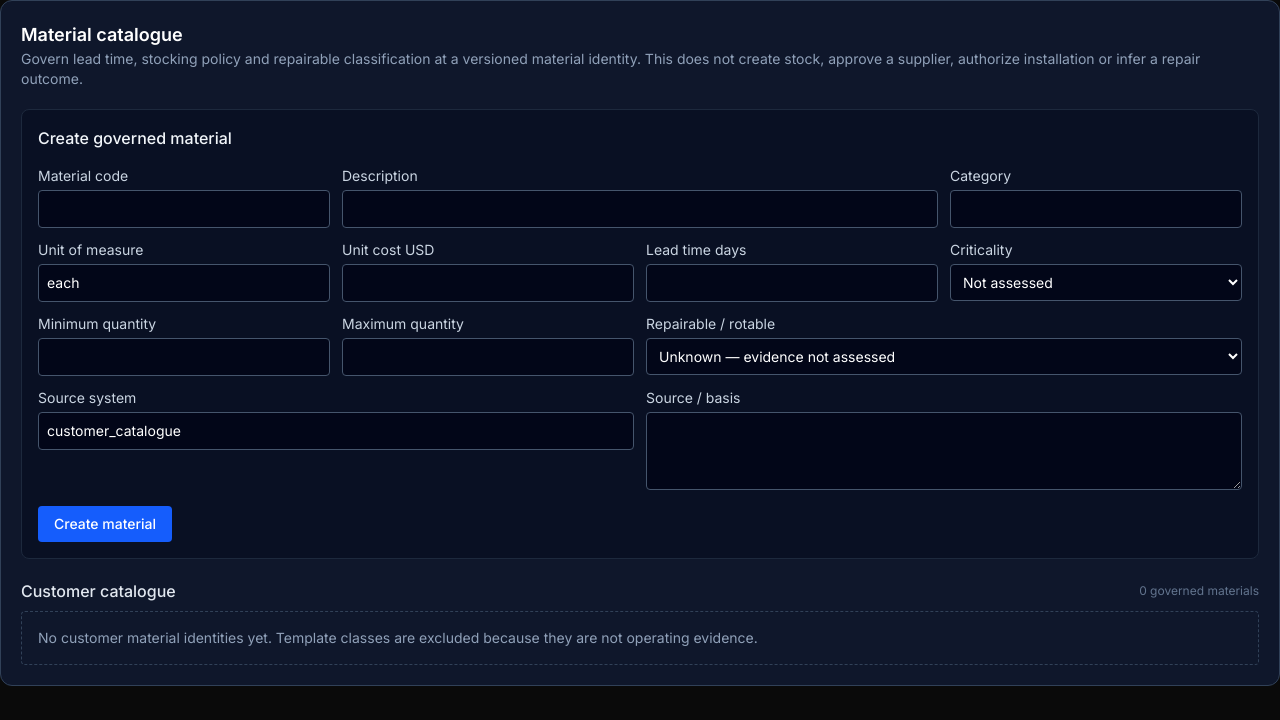
it: MaterialCatalogue › preserves input on refusal and never displays a success message
Check: the text "0 governed materials" is shown, box [1139,583,1259,599]
Step 1. Type "SEAL-1" into the field labelled "Material code" → (184, 209), box [38,190,330,228]
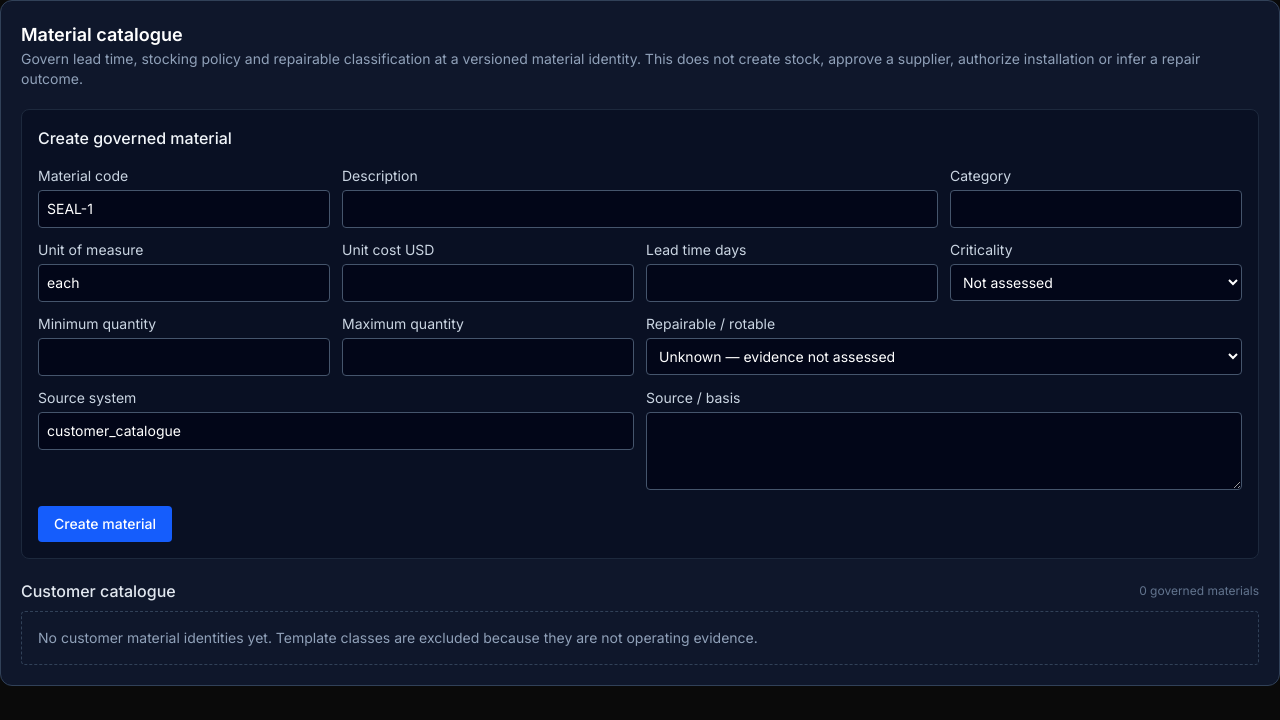
Step 2. Type "Seal" into the field labelled "Description" → (640, 209), box [342,190,938,228]
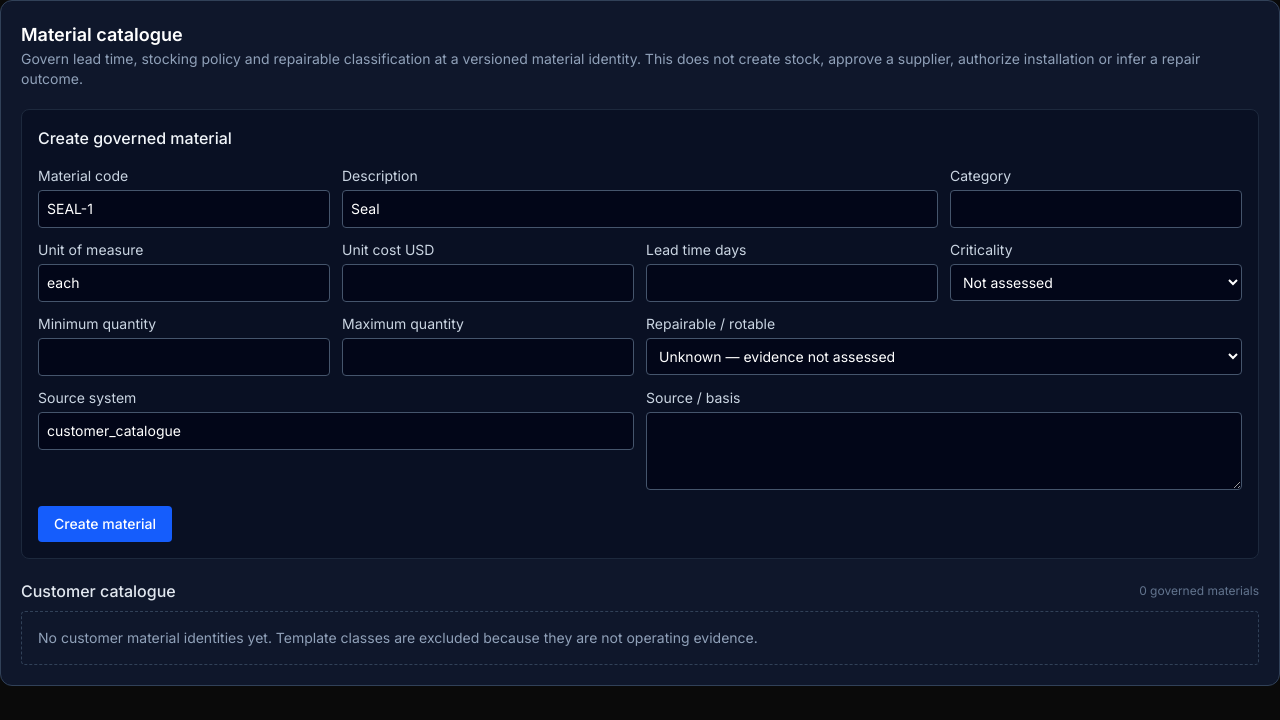
Step 3. Type "21" into the number field labelled "Lead time days" → (792, 283), box [646,264,938,302]
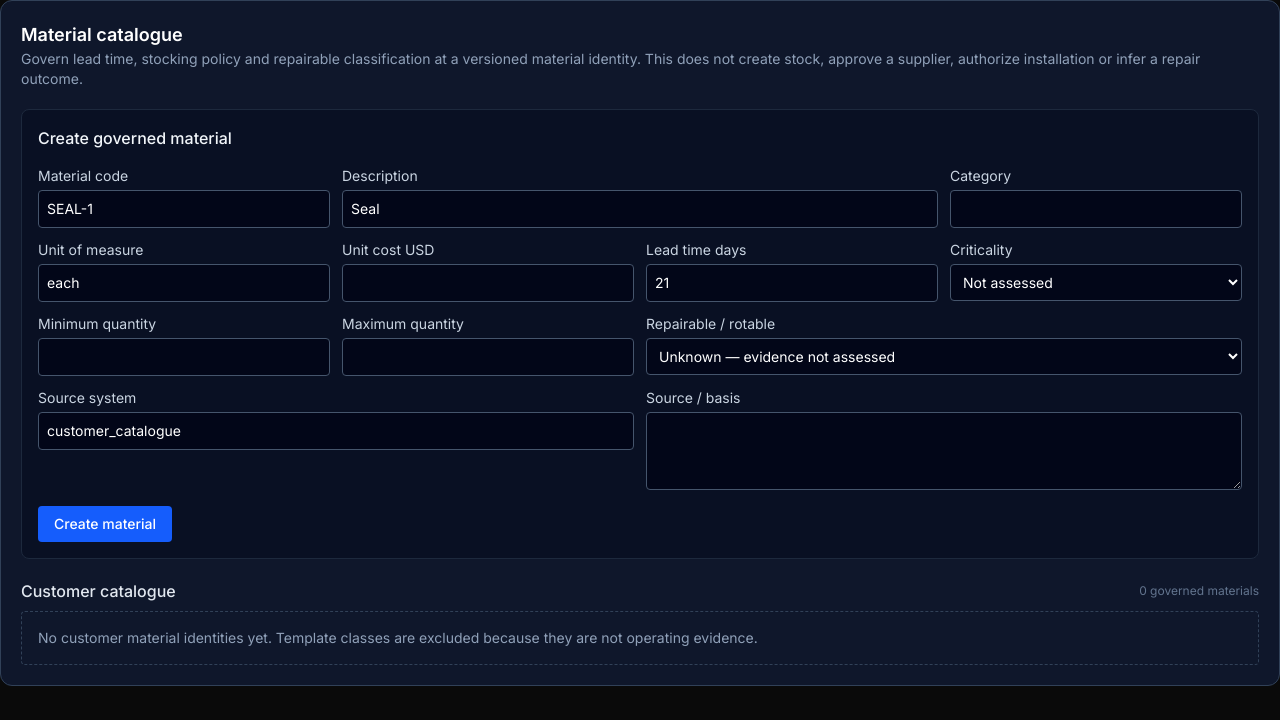
Step 4. Select "Consumable" in the dropdown labelled "Repairable / rotable" → (944, 356), box [646,338,1242,375]
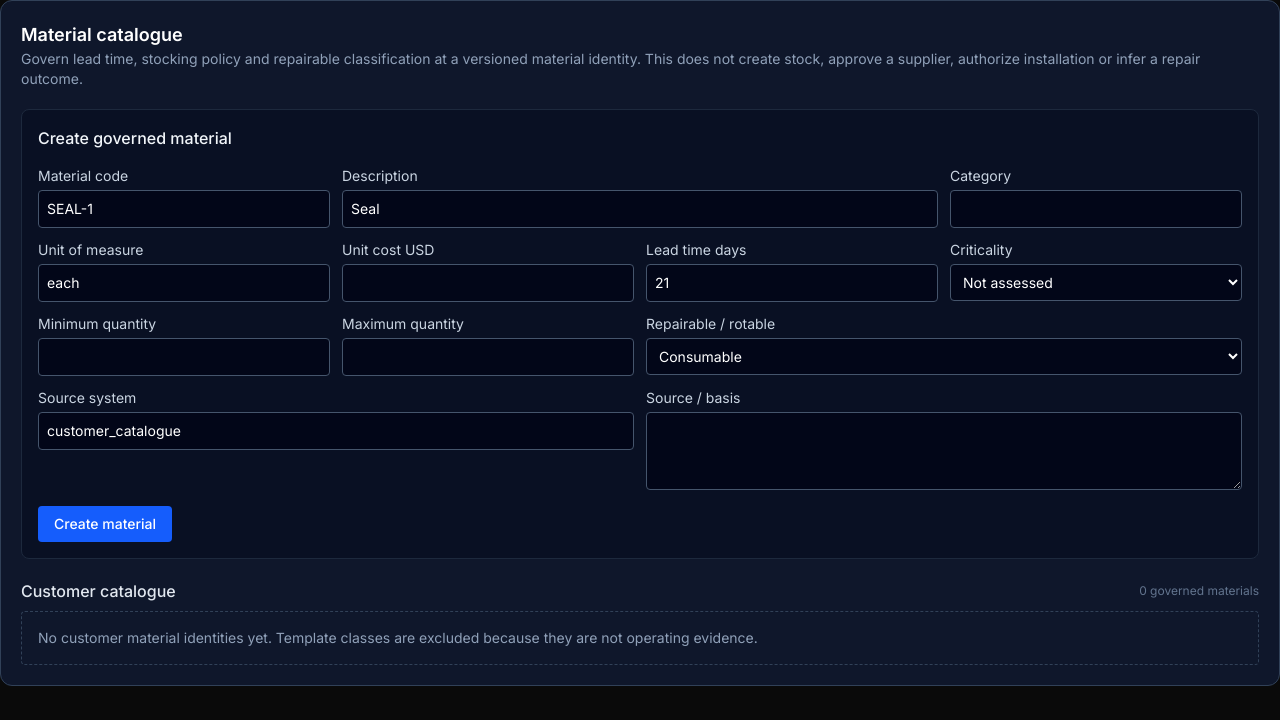
Step 5. Type "Approved catalogue page four source." into the text box labelled "Source / basis" → (944, 451), box [646,412,1242,490]
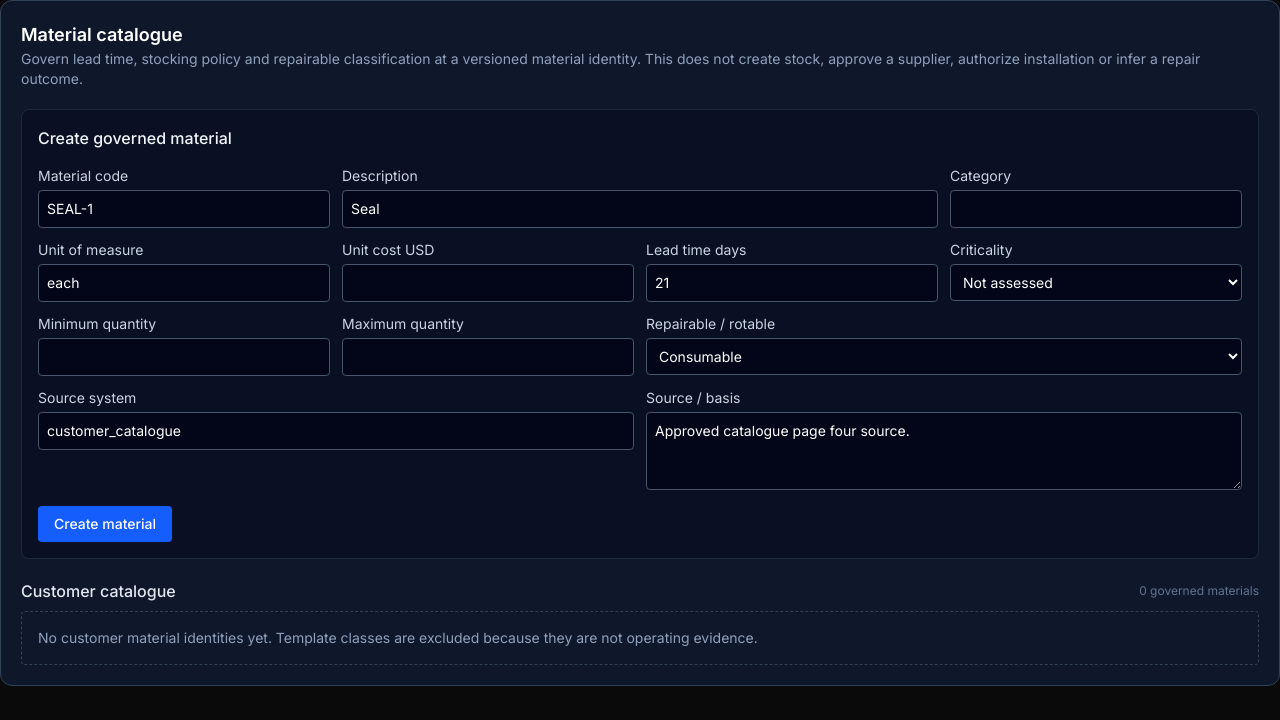
Step 6. Click the button "Create material" → (105, 524), box [38,506,172,542]
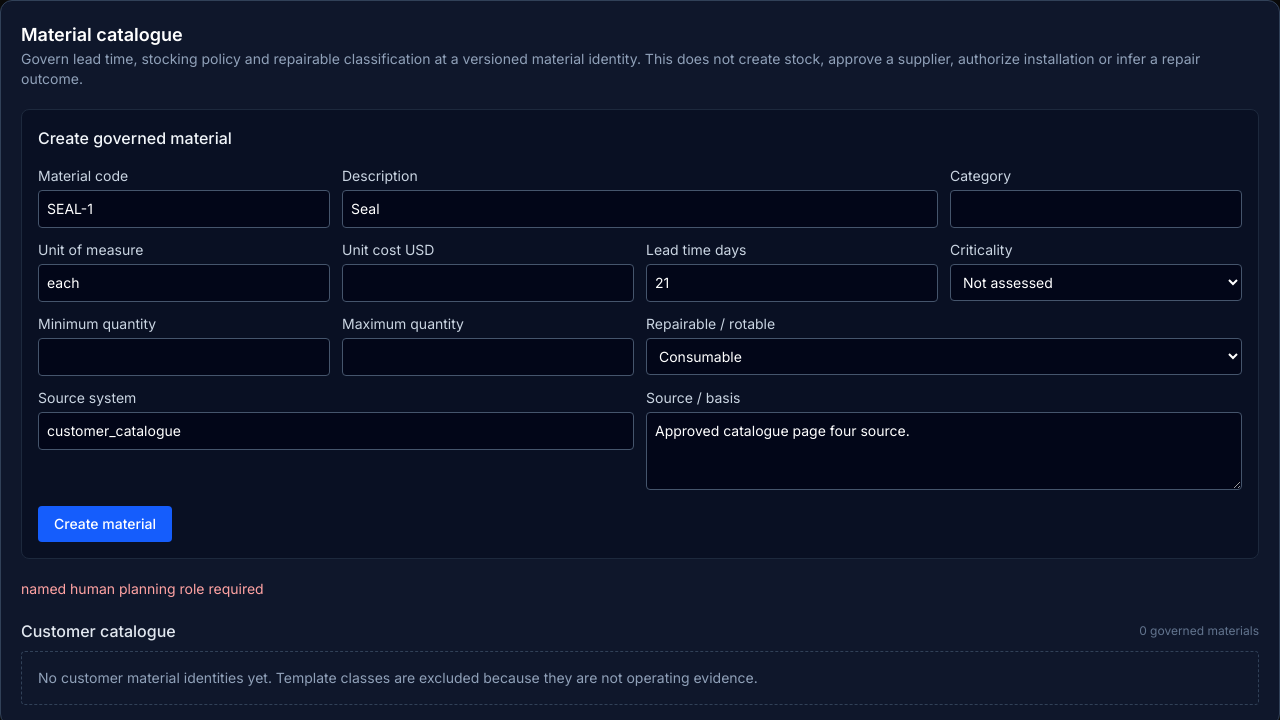
Check: the message reads "named human planning role required", box [21,580,264,597]
